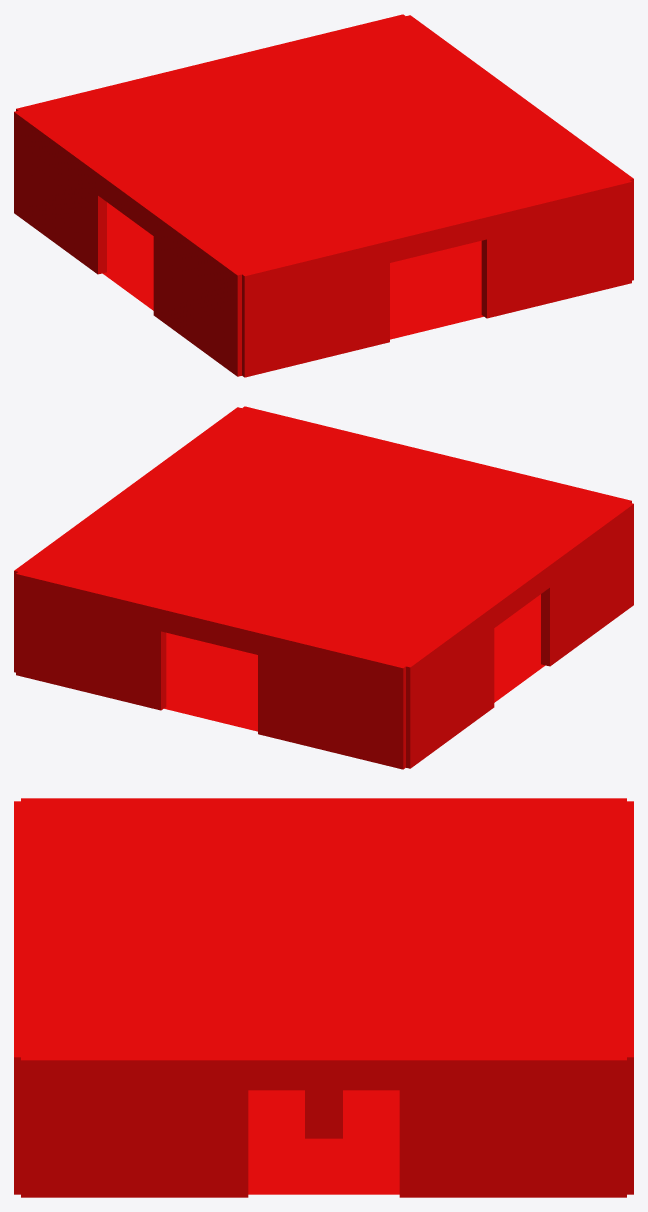
File: cave_room_c.dae
3 views of the same model, one above another, from view 1: azimuth 30°, elevation 25°; view 2: azimuth 150°, elevation 25°; view 3: azimuth 270°, elevation 25° (orthographic). The views are drawn at different scales.
Visible parts, largest first — view 1: Plane.001, Cube.009, Cube.010, Plane, Cube.004, Cube.003, Cube.011, Cube.005, Cube.007, Cube.001, Cube, Cube.006 (+2 smaller); view 2: Plane.001, Cube.007, Cube.006, Plane, Cube.004, Cube.003, Cube.008, Cube.005, Cube.010, Cube, Cube.009, Cube.001 (+2 smaller); view 3: Plane.001, Cube.001, Cube, Plane, Cube.002, Cube.013, Cube.010, Cube.007, Cube.004, Cube.003, Cube.009, Cube.006 (+4 smaller).
Boxes of the visible parts, x1,y1,x2,y2 form: Plane.001: (19, 18, 628, 271); Cube.009: (240, 237, 389, 377); Cube.010: (481, 180, 631, 318); Plane: (102, 202, 483, 339); Cube.004: (14, 111, 106, 274); Cube.003: (153, 212, 243, 376); Cube.011: (385, 214, 486, 262); Cube.005: (98, 171, 162, 235); Cube.007: (258, 14, 407, 53); Cube.001: (404, 15, 493, 78); Cube: (542, 117, 633, 280); Cube.006: (16, 73, 164, 111); Plane.001: (19, 411, 628, 664); Cube.007: (16, 571, 166, 710); Cube.006: (258, 629, 407, 769); Plane: (164, 594, 545, 731); Cube.004: (404, 604, 494, 768); Cube.003: (541, 503, 633, 666); Cube.008: (161, 606, 262, 654); Cube.005: (485, 563, 549, 627); Cube.010: (240, 406, 389, 445); Cube: (154, 407, 243, 470); Cube.009: (482, 465, 631, 503); Cube.001: (14, 509, 105, 672); Plane.001: (21, 801, 626, 1054); Cube.001: (399, 1054, 626, 1197); Cube: (21, 1054, 248, 1197); Plane: (248, 1090, 399, 1194); Cube.002: (248, 1054, 399, 1090); Cube.013: (305, 985, 342, 1138); Cube.010: (14, 961, 28, 1194); Cube.007: (619, 961, 633, 1194); Cube.004: (399, 798, 626, 804); Cube.003: (21, 798, 248, 804); Cube.009: (14, 801, 28, 897); Cube.006: (619, 801, 633, 897).
Size of the model in its own units: 1048 by 1048 by 256.
